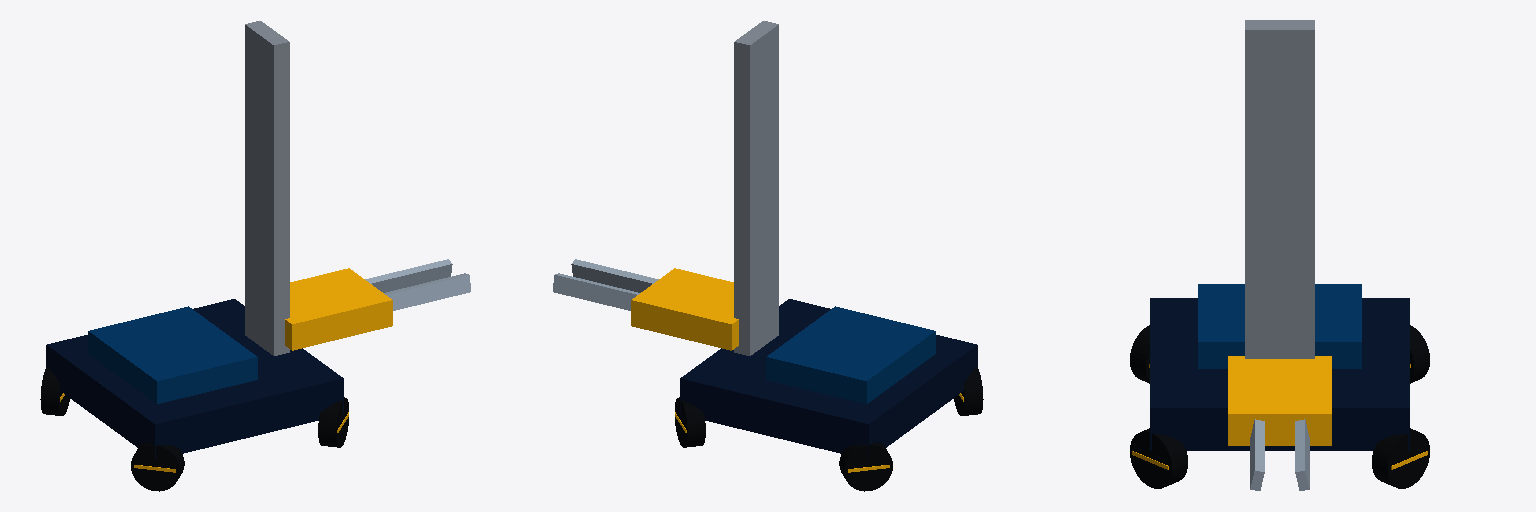
The robot description file, URDF, robot "eerkit_simple_xdrive_claw":
<?xml version='1.0' encoding='utf-8'?>
<robot name="eerkit_simple_xdrive_claw">
  <link name="base_link">
    <inertial>
      <mass value="4" />
      <origin xyz="0 0 0" rpy="0 0 0" />
      <inertia ixx="0.031008333333333332" iyy="0.031008333333333332" izz="0.06" ixy="0" ixz="0" iyz="0" />
    </inertial>
    <visual>
      <origin xyz="0 0 0" rpy="0 0 0" />
      <geometry>
        <box size=".30 .30 .055" />
      </geometry>
      <material name="base_link_material">
        <color rgba=".045 .10 .20 1" />
      </material>
    </visual>
    <collision>
      <origin xyz="0 0 0" rpy="0 0 0" />
      <geometry>
        <box size=".30 .30 .055" />
      </geometry>
    </collision>
  </link>
  <link name="electronics">
    <inertial>
      <mass value="0.2" />
      <origin xyz="0 0 0" rpy="0 0 0" />
      <inertia ixx="0.0006220833333333333" iyy="0.0004470833333333334" izz="0.0010283333333333336" ixy="0" ixz="0" iyz="0" />
    </inertial>
    <visual>
      <origin xyz="0 0 0" rpy="0 0 0" />
      <geometry>
        <box size=".16 .19 .035" />
      </geometry>
      <material name="electronics_material">
        <color rgba=".025 .24 .42 1" />
      </material>
    </visual>
    <collision>
      <origin xyz="0 0 0" rpy="0 0 0" />
      <geometry>
        <box size=".16 .19 .035" />
      </geometry>
    </collision>
  </link>
  <joint name="electronics_fixed" type="fixed">
    <parent link="base_link" />
    <child link="electronics" />
    <origin xyz="-.035 0 .045" rpy="0 0 0" />
    <axis xyz="0 0 1" />
  </joint>
  <link name="front_left_wheel">
    <inertial>
      <mass value="0.22" />
      <origin xyz="0 0 0" rpy="0 0 0" />
      <inertia ixx="0.00013417311874999998" iyy="0.00013417311874999998" izz="0.00013417311874999998" ixy="0" ixz="0" iyz="0" />
    </inertial>
    <visual>
      <origin xyz="0 0 0" rpy="-1.5707963267948966 0 -0.7853981633974483" />
      <geometry>
        <cylinder radius="0.034925" length="0.026" />
      </geometry>
      <material name="front_left_wheel_material">
        <color rgba=".055 .065 .075 1" />
      </material>
    </visual>
    <collision>
      <origin xyz="0 0 0" rpy="-1.5707963267948966 0 -0.7853981633974483" />
      <geometry>
        <cylinder radius="0.034925" length="0.026" />
      </geometry>
    </collision>
    <visual>
      <origin xyz="-0.0096873629022557 -0.0096873629022557 0.0" rpy="-1.5707963267948966 0 -0.7853981633974483" />
      <geometry>
        <box size="0.059372499999999995 .005 .001" />
      </geometry>
      <material name="motion_spoke">
        <color rgba="1 .72 .04 1" />
      </material>
    </visual>
    <visual>
      <origin xyz="0.0096873629022557 0.0096873629022557 0.0" rpy="-1.5707963267948966 0 -0.7853981633974483" />
      <geometry>
        <box size="0.059372499999999995 .005 .001" />
      </geometry>
      <material name="motion_spoke">
        <color rgba="1 .72 .04 1" />
      </material>
    </visual>
  </link>
  <joint name="front_left" type="continuous">
    <parent link="base_link" />
    <child link="front_left_wheel" />
    <origin xyz="0.14 0.14 -.04" rpy="0 0 0" />
    <axis xyz="0.7071067811865476 0.7071067811865476 0" />
    <dynamics damping="0.0001" friction="0" />
    <limit effort="60" velocity="200" />
  </joint>
  <link name="front_right_wheel">
    <inertial>
      <mass value="0.22" />
      <origin xyz="0 0 0" rpy="0 0 0" />
      <inertia ixx="0.00013417311874999998" iyy="0.00013417311874999998" izz="0.00013417311874999998" ixy="0" ixz="0" iyz="0" />
    </inertial>
    <visual>
      <origin xyz="0 0 0" rpy="-1.5707963267948966 0 0.7853981633974483" />
      <geometry>
        <cylinder radius="0.034925" length="0.026" />
      </geometry>
      <material name="front_right_wheel_material">
        <color rgba=".055 .065 .075 1" />
      </material>
    </visual>
    <collision>
      <origin xyz="0 0 0" rpy="-1.5707963267948966 0 0.7853981633974483" />
      <geometry>
        <cylinder radius="0.034925" length="0.026" />
      </geometry>
    </collision>
    <visual>
      <origin xyz="0.0096873629022557 -0.0096873629022557 0.0" rpy="-1.5707963267948966 0 0.7853981633974483" />
      <geometry>
        <box size="0.059372499999999995 .005 .001" />
      </geometry>
      <material name="motion_spoke">
        <color rgba="1 .72 .04 1" />
      </material>
    </visual>
    <visual>
      <origin xyz="-0.0096873629022557 0.0096873629022557 0.0" rpy="-1.5707963267948966 0 0.7853981633974483" />
      <geometry>
        <box size="0.059372499999999995 .005 .001" />
      </geometry>
      <material name="motion_spoke">
        <color rgba="1 .72 .04 1" />
      </material>
    </visual>
  </link>
  <joint name="front_right" type="continuous">
    <parent link="base_link" />
    <child link="front_right_wheel" />
    <origin xyz="0.14 -0.14 -.04" rpy="0 0 0" />
    <axis xyz="-0.7071067811865476 0.7071067811865476 0" />
    <dynamics damping="0.0001" friction="0" />
    <limit effort="60" velocity="200" />
  </joint>
  <link name="back_left_wheel">
    <inertial>
      <mass value="0.22" />
      <origin xyz="0 0 0" rpy="0 0 0" />
      <inertia ixx="0.00013417311874999998" iyy="0.00013417311874999998" izz="0.00013417311874999998" ixy="0" ixz="0" iyz="0" />
    </inertial>
    <visual>
      <origin xyz="0 0 0" rpy="-1.5707963267948966 0 0.7853981633974483" />
      <geometry>
        <cylinder radius="0.034925" length="0.026" />
      </geometry>
      <material name="back_left_wheel_material">
        <color rgba=".055 .065 .075 1" />
      </material>
    </visual>
    <collision>
      <origin xyz="0 0 0" rpy="-1.5707963267948966 0 0.7853981633974483" />
      <geometry>
        <cylinder radius="0.034925" length="0.026" />
      </geometry>
    </collision>
    <visual>
      <origin xyz="0.0096873629022557 -0.0096873629022557 0.0" rpy="-1.5707963267948966 0 0.7853981633974483" />
      <geometry>
        <box size="0.059372499999999995 .005 .001" />
      </geometry>
      <material name="motion_spoke">
        <color rgba="1 .72 .04 1" />
      </material>
    </visual>
    <visual>
      <origin xyz="-0.0096873629022557 0.0096873629022557 0.0" rpy="-1.5707963267948966 0 0.7853981633974483" />
      <geometry>
        <box size="0.059372499999999995 .005 .001" />
      </geometry>
      <material name="motion_spoke">
        <color rgba="1 .72 .04 1" />
      </material>
    </visual>
  </link>
  <joint name="back_left" type="continuous">
    <parent link="base_link" />
    <child link="back_left_wheel" />
    <origin xyz="-0.14 0.14 -.04" rpy="0 0 0" />
    <axis xyz="-0.7071067811865476 0.7071067811865476 0" />
    <dynamics damping="0.0001" friction="0" />
    <limit effort="60" velocity="200" />
  </joint>
  <link name="back_right_wheel">
    <inertial>
      <mass value="0.22" />
      <origin xyz="0 0 0" rpy="0 0 0" />
      <inertia ixx="0.00013417311874999998" iyy="0.00013417311874999998" izz="0.00013417311874999998" ixy="0" ixz="0" iyz="0" />
    </inertial>
    <visual>
      <origin xyz="0 0 0" rpy="-1.5707963267948966 0 -0.7853981633974483" />
      <geometry>
        <cylinder radius="0.034925" length="0.026" />
      </geometry>
      <material name="back_right_wheel_material">
        <color rgba=".055 .065 .075 1" />
      </material>
    </visual>
    <collision>
      <origin xyz="0 0 0" rpy="-1.5707963267948966 0 -0.7853981633974483" />
      <geometry>
        <cylinder radius="0.034925" length="0.026" />
      </geometry>
    </collision>
    <visual>
      <origin xyz="-0.0096873629022557 -0.0096873629022557 0.0" rpy="-1.5707963267948966 0 -0.7853981633974483" />
      <geometry>
        <box size="0.059372499999999995 .005 .001" />
      </geometry>
      <material name="motion_spoke">
        <color rgba="1 .72 .04 1" />
      </material>
    </visual>
    <visual>
      <origin xyz="0.0096873629022557 0.0096873629022557 0.0" rpy="-1.5707963267948966 0 -0.7853981633974483" />
      <geometry>
        <box size="0.059372499999999995 .005 .001" />
      </geometry>
      <material name="motion_spoke">
        <color rgba="1 .72 .04 1" />
      </material>
    </visual>
  </link>
  <joint name="back_right" type="continuous">
    <parent link="base_link" />
    <child link="back_right_wheel" />
    <origin xyz="-0.14 -0.14 -.04" rpy="0 0 0" />
    <axis xyz="0.7071067811865476 0.7071067811865476 0" />
    <dynamics damping="0.0001" friction="0" />
    <limit effort="60" velocity="200" />
  </joint>
  <link name="mast">
    <inertial>
      <mass value="0.4" />
      <origin xyz="0 0 0" rpy="0 0 0" />
      <inertia ixx="0.00922666666666667" iyy="0.009034166666666668" izz="0.00023416666666666668" ixy="0" ixz="0" iyz="0" />
    </inertial>
    <visual>
      <origin xyz="0 0 0" rpy="0 0 0" />
      <geometry>
        <box size=".025 .08 .52" />
      </geometry>
      <material name="mast_material">
        <color rgba=".55 .58 .62 1" />
      </material>
    </visual>
    <collision>
      <origin xyz="0 0 0" rpy="0 0 0" />
      <geometry>
        <box size=".025 .08 .52" />
      </geometry>
    </collision>
  </link>
  <joint name="mast_fixed" type="fixed">
    <parent link="base_link" />
    <child link="mast" />
    <origin xyz=".115 0 .24" rpy="0 0 0" />
    <axis xyz="0 0 1" />
  </joint>
  <link name="carriage">
    <inertial>
      <mass value="0.3" />
      <origin xyz=".20 0 0" rpy="0 0 0" />
      <inertia ixx="0.00039999999999999996" iyy="0.00068" izz="0.001" ixy="0" ixz="0" iyz="0" />
    </inertial>
    <visual>
      <origin xyz=".20 0 0" rpy="0 0 0" />
      <geometry>
        <box size=".16 .12 .04" />
      </geometry>
      <material name="carriage_material">
        <color rgba="1 .72 .04 1" />
      </material>
    </visual>
    <collision>
      <origin xyz=".20 0 0" rpy="0 0 0" />
      <geometry>
        <box size=".16 .12 .04" />
      </geometry>
    </collision>
  </link>
  <joint name="lift" type="prismatic">
    <parent link="base_link" />
    <child link="carriage" />
    <origin xyz="0 0 .06" rpy="0 0 0" />
    <axis xyz="0 0 1" />
    <dynamics damping="0.0001" friction="0" />
    <limit effort="60" velocity="200" lower="0" upper="0.4" />
  </joint>
  <link name="fixed_finger">
    <inertial>
      <mass value="0.075" />
      <origin xyz="0 0 0" rpy="0 0 0" />
      <inertia ixx="4.806250000000001e-06" iyy="0.00025390625000000006" izz="0.0002509" ixy="0" ixz="0" iyz="0" />
    </inertial>
    <visual>
      <origin xyz="0 0 0" rpy="-.208 0 0" />
      <geometry>
        <box size=".20 .012 .025" />
      </geometry>
      <material name="fixed_finger_material">
        <color rgba=".62 .68 .74 1" />
      </material>
    </visual>
    <collision>
      <origin xyz="0 0 0" rpy="-.208 0 0" />
      <geometry>
        <box size=".20 .012 .025" />
      </geometry>
    </collision>
  </link>
  <joint name="fixed_finger_mount" type="fixed">
    <parent link="carriage" />
    <child link="fixed_finger" />
    <origin xyz=".32 -.026 0" rpy="0 0 0" />
    <axis xyz="0 1 0" />
  </joint>
  <link name="moving_finger">
    <inertial>
      <mass value="0.075" />
      <origin xyz="0 0 0" rpy="0 0 0" />
      <inertia ixx="4.806250000000001e-06" iyy="0.00025390625000000006" izz="0.0002509" ixy="0" ixz="0" iyz="0" />
    </inertial>
    <visual>
      <origin xyz="0 0 0" rpy=".208 0 0" />
      <geometry>
        <box size=".20 .012 .025" />
      </geometry>
      <material name="moving_finger_material">
        <color rgba=".62 .68 .74 1" />
      </material>
    </visual>
    <collision>
      <origin xyz="0 0 0" rpy=".208 0 0" />
      <geometry>
        <box size=".20 .012 .025" />
      </geometry>
    </collision>
  </link>
  <joint name="claw" type="prismatic">
    <parent link="carriage" />
    <child link="moving_finger" />
    <origin xyz=".32 .026 0" rpy="0 0 0" />
    <axis xyz="0 1 0" />
    <dynamics damping="0.0001" friction="0" />
    <limit effort="60" velocity="200" lower="-0.015" upper="0.045" />
  </joint>
</robot>

--- What the picture shows (computed from the rendered views, not written in the file) ---
3 views of the same robot in one strip: view 1: azimuth 30°, elevation 25°; view 2: azimuth 150°, elevation 25°; view 3: azimuth 270°, elevation 25° (orthographic).
Model eerkit_simple_xdrive_claw with 10 links and 9 joints (4 continuous, 2 prismatic, 3 fixed), rooted at base_link, posed every joint at zero.
Links seen in each view (by area): view 1: base_link, mast, electronics, carriage, back_right_wheel, fixed_finger, moving_finger, front_right_wheel, back_left_wheel; view 2: base_link, mast, electronics, carriage, back_left_wheel, moving_finger, fixed_finger, front_left_wheel, back_right_wheel; view 3: mast, base_link, carriage, electronics, front_left_wheel, front_right_wheel, fixed_finger, moving_finger, back_left_wheel, back_right_wheel.
Link boxes in pixels (x1,y1,x2,y2): base_link: [46, 299, 343, 459]; mast: [245, 21, 289, 355]; electronics: [88, 306, 257, 403]; carriage: [285, 268, 392, 350]; back_right_wheel: [131, 442, 184, 491]; fixed_finger: [384, 273, 470, 310]; moving_finger: [365, 259, 452, 292]; front_right_wheel: [318, 397, 348, 447]; back_left_wheel: [40, 367, 69, 415]; base_link: [680, 299, 977, 459]; mast: [734, 21, 778, 355]; electronics: [766, 306, 935, 403]; carriage: [631, 268, 738, 350]; back_left_wheel: [839, 442, 892, 491]; moving_finger: [553, 273, 639, 310]; fixed_finger: [571, 259, 658, 292]; front_left_wheel: [675, 397, 705, 447]; back_right_wheel: [954, 367, 983, 415]; mast: [1245, 20, 1314, 358]; base_link: [1150, 298, 1409, 450]; carriage: [1228, 356, 1331, 445]; electronics: [1198, 284, 1361, 368]; front_left_wheel: [1372, 428, 1429, 488]; front_right_wheel: [1130, 428, 1187, 488]; fixed_finger: [1250, 419, 1264, 490]; moving_finger: [1295, 419, 1309, 490]; back_left_wheel: [1410, 325, 1429, 383]; back_right_wheel: [1130, 325, 1149, 383].
Bounding box of the posed robot: 0.5939 × 0.3478 × 0.5749 m (x, y, z).
Geometry: primitives only (box / cylinder / sphere), no mesh files.
